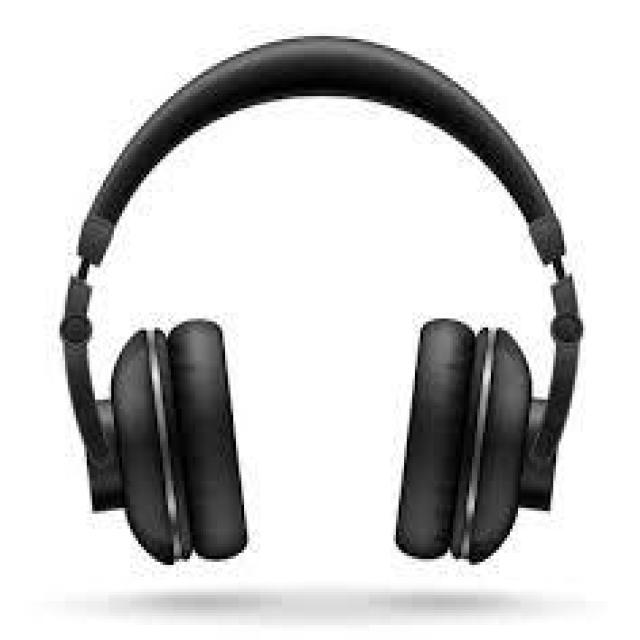headset: (50, 21, 591, 570)
